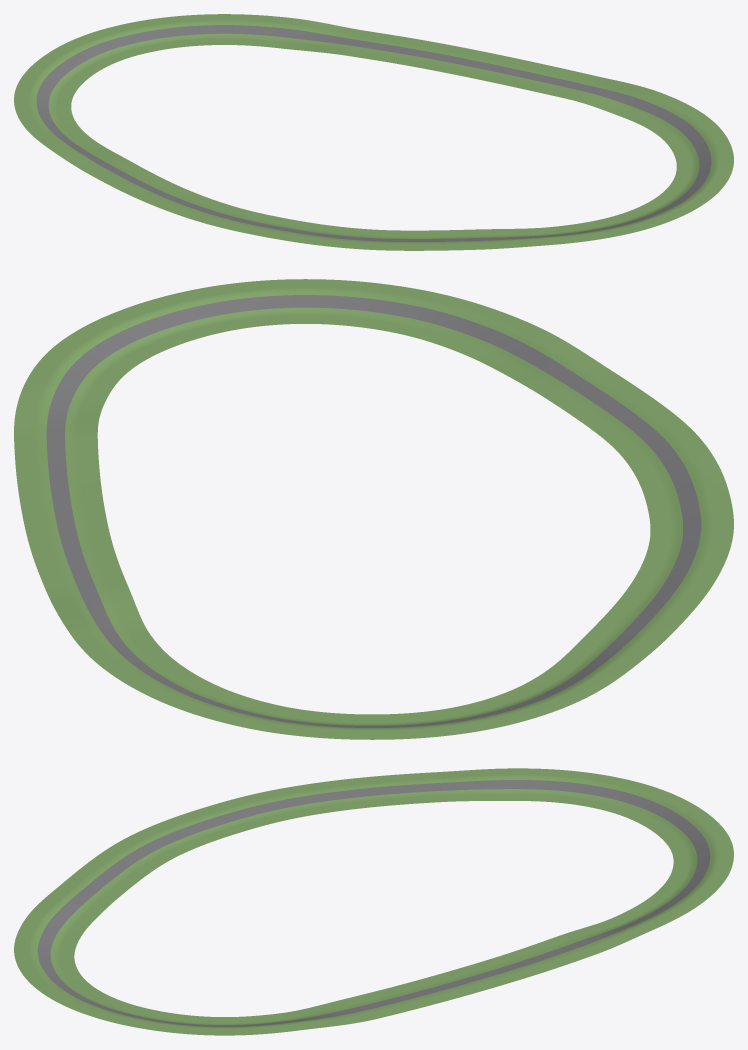
The model's file is road_mesh.glb.
3 renders of one model, top to bottom at view 1: azimuth 30°, elevation 25°; view 2: azimuth 150°, elevation 25°; view 3: azimuth 270°, elevation 25°, orthographic. The views are drawn at different scales.
Parts seen in each view (by area): view 1: road_08, road_09, road_05, road_10, road_06, road_04, road_07, road_11, road_12, road_03, road_13, road_00 (+2 smaller); view 2: road_03, road_02, road_04, road_01, road_00, road_05, road_06, road_13, road_07, road_12, road_08, road_11 (+2 smaller); view 3: road_11, road_12, road_13, road_10, road_00, road_01, road_02, road_09, road_06, road_07, road_08, road_03 (+2 smaller).
Boxes of the visible parts, <box> form: road_08: <box>200,14,338,52</box>; road_09: <box>67,14,205,65</box>; road_05: <box>551,72,687,126</box>; road_10: <box>14,42,108,107</box>; road_06: <box>437,47,577,95</box>; road_04: <box>644,105,733,169</box>; road_07: <box>320,26,460,70</box>; road_11: <box>14,101,111,159</box>; road_12: <box>65,151,189,204</box>; road_03: <box>631,164,733,221</box>; road_13: <box>151,191,288,237</box>; road_00: <box>266,219,403,250</box>; road_03: <box>186,279,399,332</box>; road_02: <box>374,286,565,371</box>; road_04: <box>42,291,222,380</box>; road_01: <box>500,341,671,435</box>; road_00: <box>599,412,729,504</box>; road_05: <box>14,358,119,449</box>; road_06: <box>14,447,108,528</box>; road_13: <box>635,495,733,580</box>; road_07: <box>25,527,135,606</box>; road_12: <box>572,577,715,656</box>; road_08: <box>53,604,193,684</box>; road_11: <box>472,649,646,723</box>; road_11: <box>476,768,625,808</box>; road_12: <box>336,769,481,809</box>; road_13: <box>204,780,351,832</box>; road_10: <box>598,779,724,844</box>; road_00: <box>102,807,239,870</box>; road_01: <box>38,852,153,920</box>; road_02: <box>14,904,93,970</box>; road_09: <box>658,829,733,894</box>; road_06: <box>363,963,510,1014</box>; road_07: <box>476,929,618,982</box>; road_08: <box>580,891,712,944</box>; road_03: <box>18,965,138,1020</box>.
Bounding box in the file's own units: 805 × 13.89 × 908.
